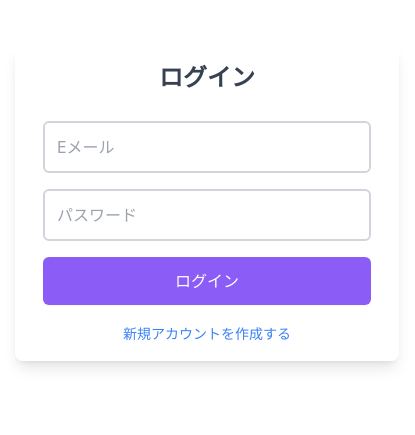
User.Login component › should display form error
Click the button at (207, 281), box [43,257,371,305]
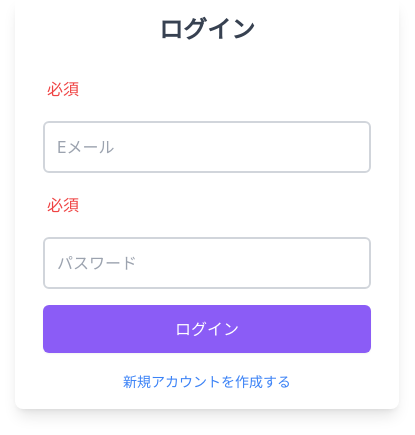
Expected: the text "必須" is shown 2 times, [47,79,79,99]; [47,195,79,215]
